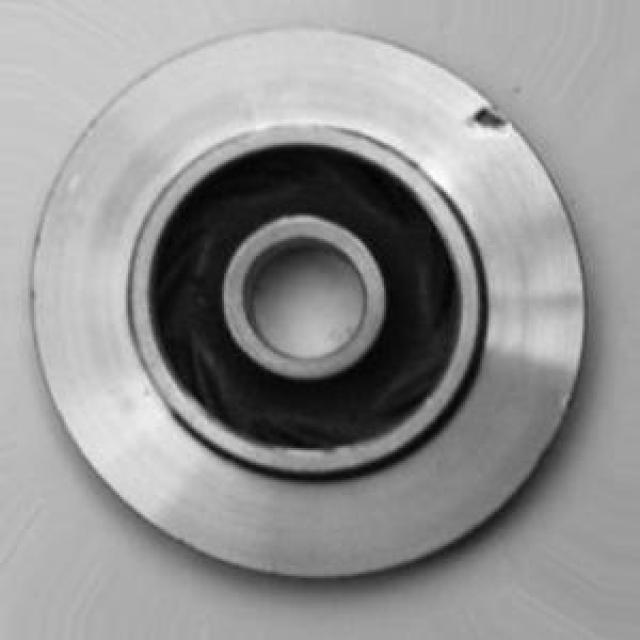Defect: (472, 104, 509, 138)
